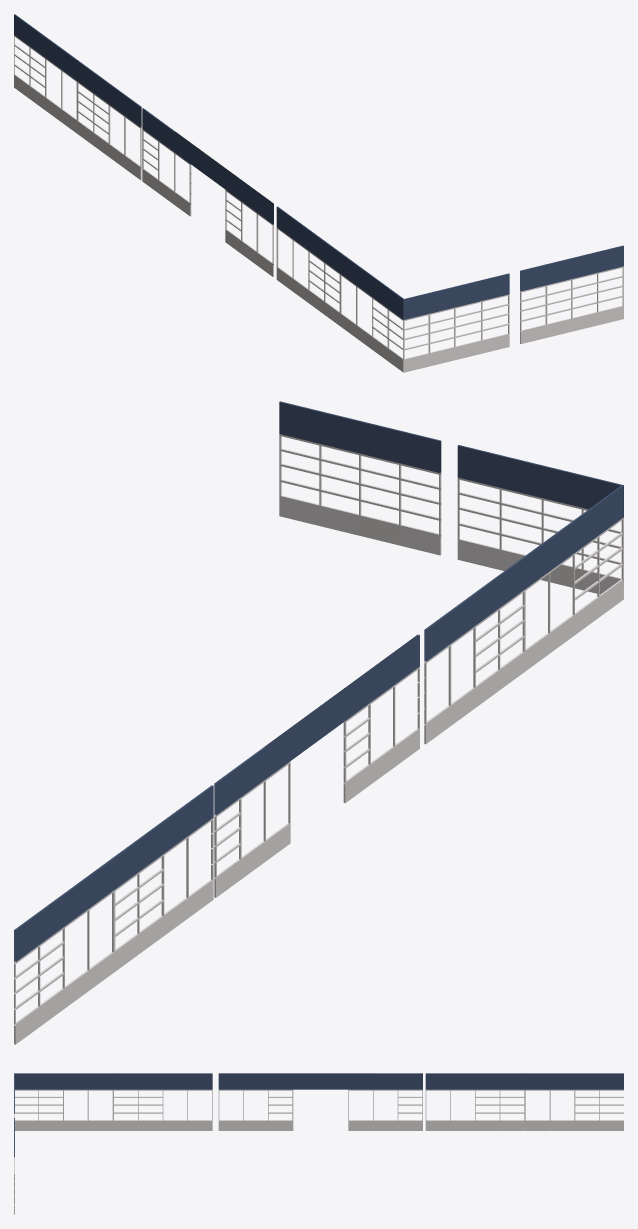
The model's file is SW_corridor__R_lobby_R_Aula_Kautava1_Ikkuna_002.FBX.
The picture shows the model from 3 angles, top to bottom: view 1: azimuth 30°, elevation 25°; view 2: azimuth 150°, elevation 25°; view 3: azimuth 270°, elevation 25°; orthographic projection. The views are drawn at different scales.
Visible parts, largest first — view 1: SW_corridor__R_lobby_R_Aula_Kautava1_Ikkuna_002; view 2: SW_corridor__R_lobby_R_Aula_Kautava1_Ikkuna_002; view 3: SW_corridor__R_lobby_R_Aula_Kautava1_Ikkuna_002.
Boxes of the visible parts, left/top/right/bottom form: SW_corridor__R_lobby_R_Aula_Kautava1_Ikkuna_002: left=14, top=14, right=623, bottom=372; SW_corridor__R_lobby_R_Aula_Kautava1_Ikkuna_002: left=14, top=401, right=623, bottom=1044; SW_corridor__R_lobby_R_Aula_Kautava1_Ikkuna_002: left=14, top=1073, right=623, bottom=1214.
Bounding box in the file's own units: 1154 × 3537 × 366.
